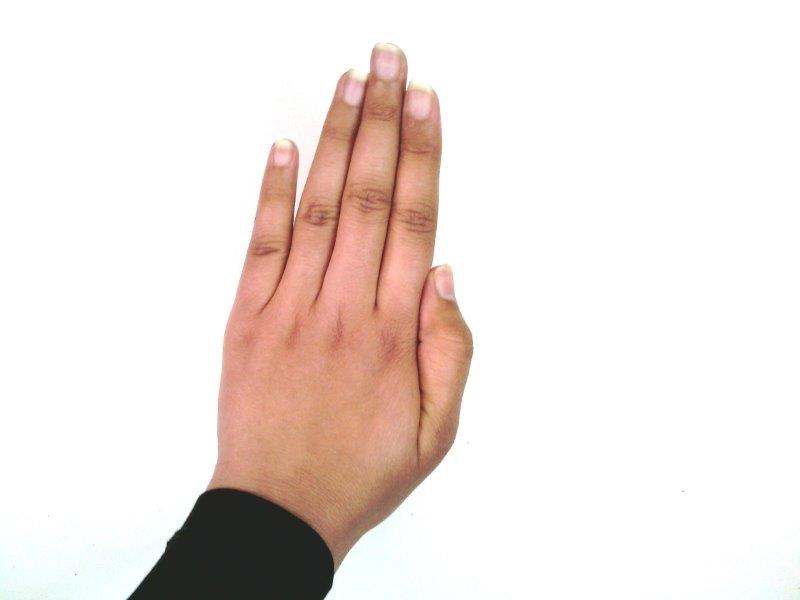hand: (217, 39, 473, 488)
